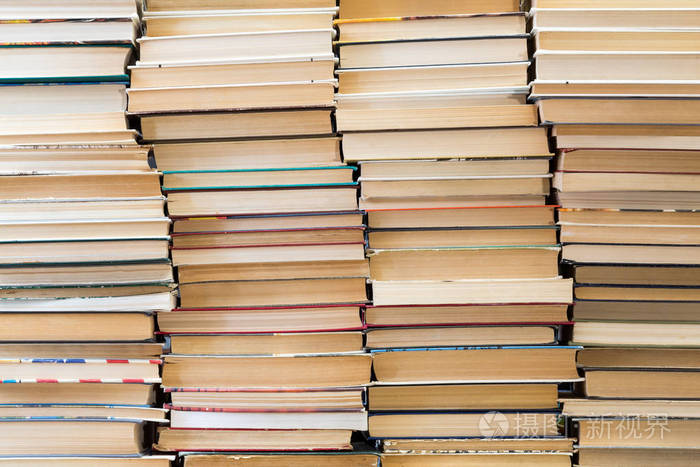book: (171, 341, 369, 394), (0, 77, 135, 138), (127, 79, 338, 118), (374, 245, 566, 286), (377, 380, 569, 416), (534, 90, 700, 131), (367, 300, 577, 327), (365, 203, 558, 230), (171, 239, 371, 264), (166, 165, 362, 187)
